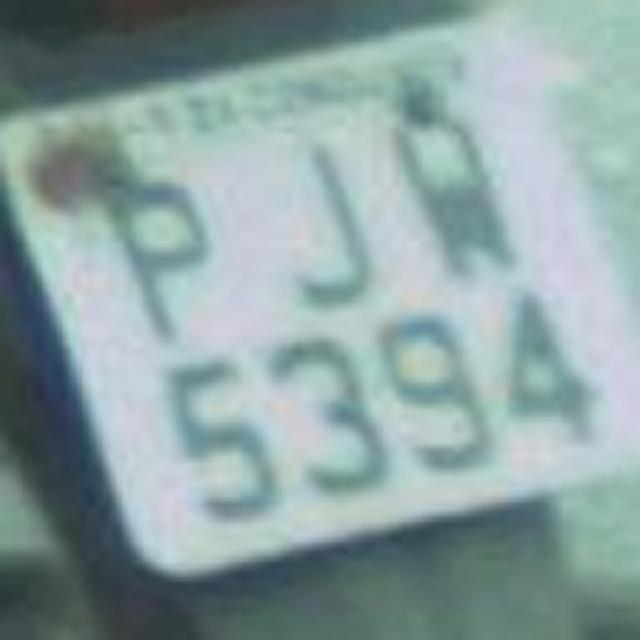3: (224, 308, 424, 512)
4: (472, 260, 620, 460)
5: (112, 340, 328, 540)
9: (360, 284, 515, 488)
B: (356, 96, 544, 292)
J: (244, 124, 396, 316)
P: (76, 155, 232, 360)
